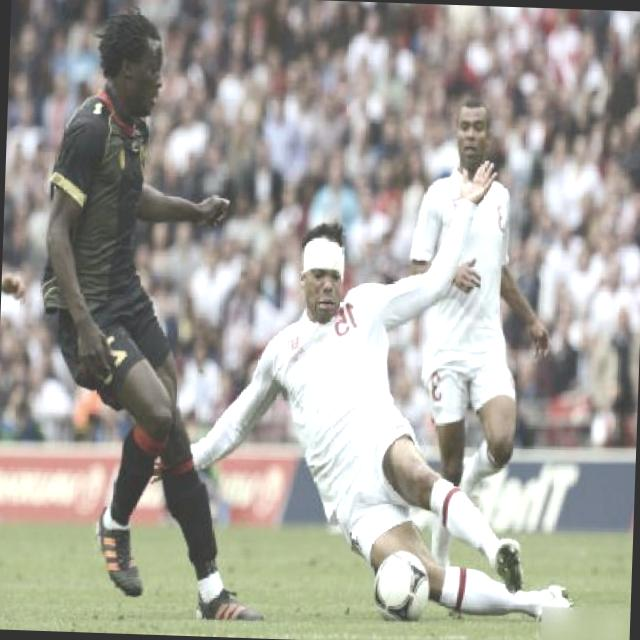Person: (28, 0, 267, 632)
